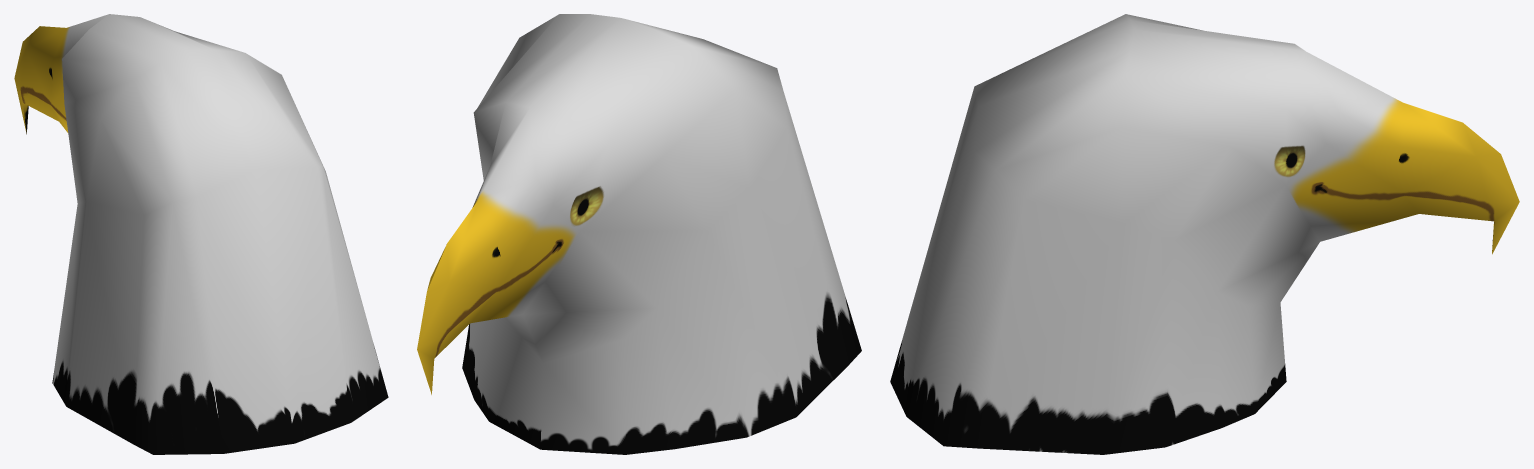
File: Eagle.fbx
3 views of the same model, side by side, from view 1: azimuth 30°, elevation 25°; view 2: azimuth 150°, elevation 25°; view 3: azimuth 270°, elevation 25° (orthographic). The views are drawn at different scales.
Visible parts, largest first — view 1: pPlane4; view 2: pPlane4; view 3: pPlane4.
Part boxes in pixels (bbox=[...]): pPlane4: bbox=[14, 14, 388, 454]; pPlane4: bbox=[417, 14, 861, 454]; pPlane4: bbox=[890, 14, 1519, 454].
Size of the model in its own units: 45.66 by 51.36 by 83.05.
